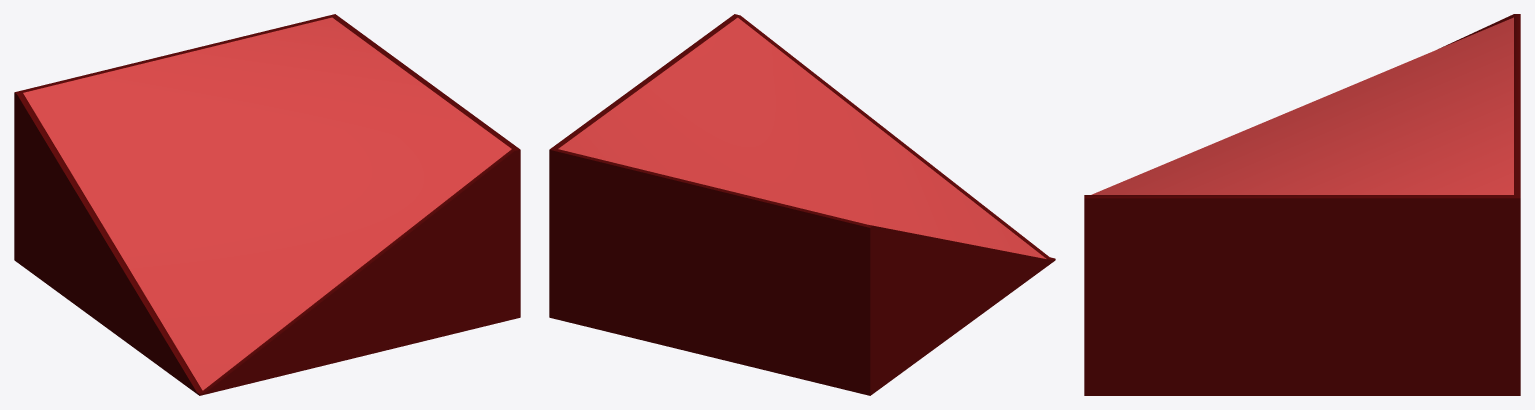
Rendered from Casilla 23.fbx.
The picture shows the model from 3 angles, left to right: view 1: azimuth 30°, elevation 25°; view 2: azimuth 150°, elevation 25°; view 3: azimuth 270°, elevation 25°; orthographic projection. The views are drawn at different scales.
Parts seen in each view (by area): view 1: pCube4; view 2: pCube4; view 3: pCube4.
Boxes of the visible parts, x1,y1,x2,y2 form: pCube4: (14, 14, 520, 395); pCube4: (549, 14, 1055, 395); pCube4: (1084, 14, 1520, 395).
Size of the model in its own units: 200 by 100 by 200.
